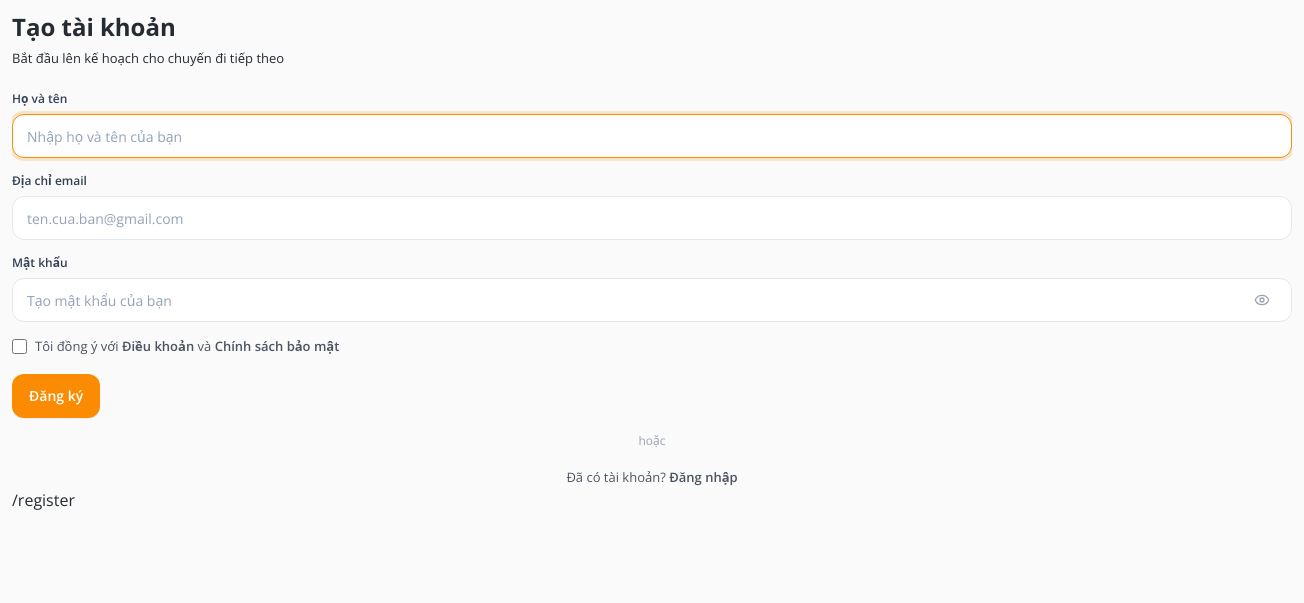
Test case: Màn Đăng ký › lỗi: email không phải @gmail.com → chặn ngay ở form, không gọi API
Step 1. Type "Nguyễn Văn A" into the field labelled "Họ và tên" → [652, 136], box x1=12 y1=114 x2=1292 y2=158
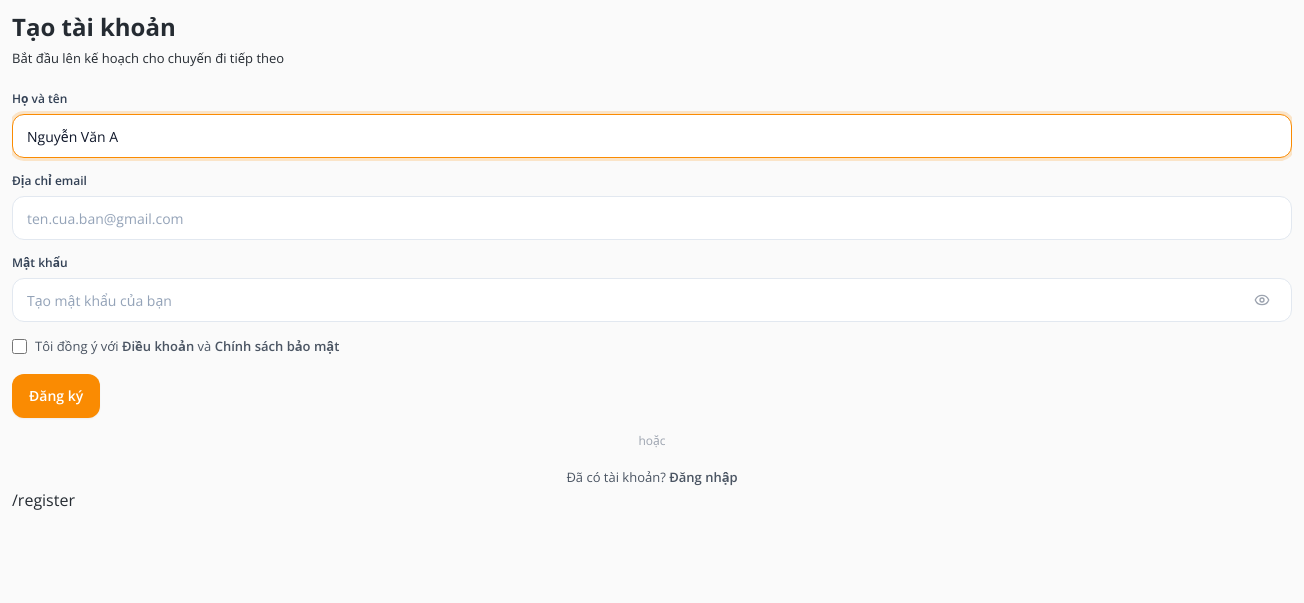
Step 2. Type "abc@yahoo.com" into the field labelled "Địa chỉ email" → [652, 218], box x1=12 y1=196 x2=1292 y2=240
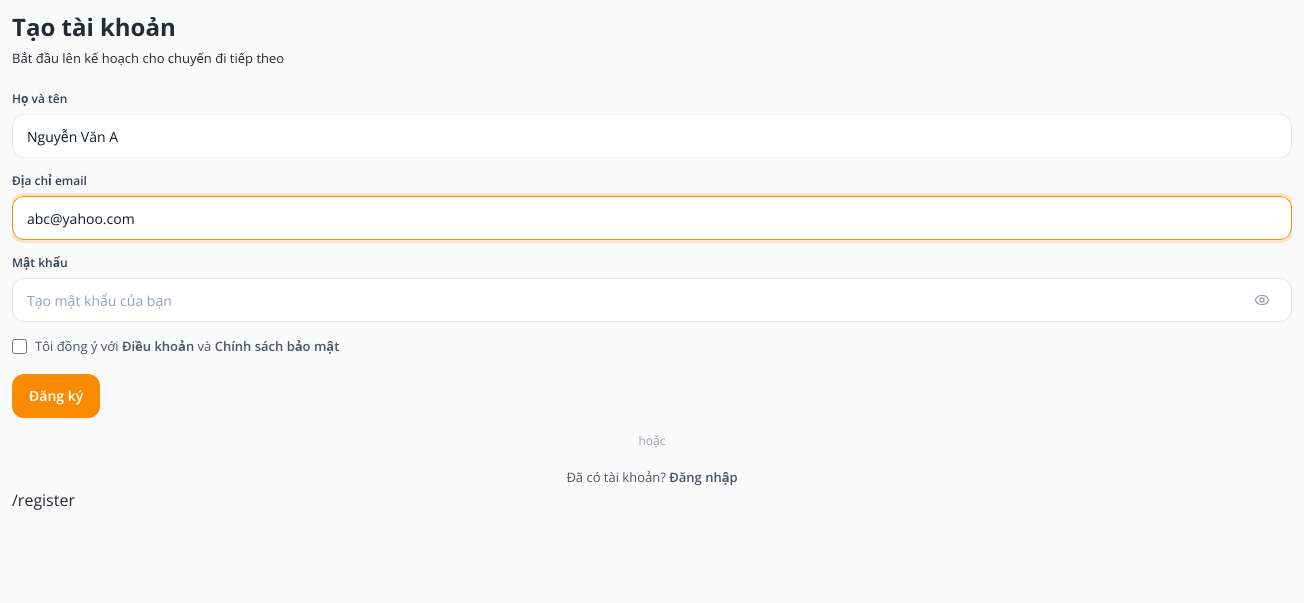
Step 3. Type "MatKhau1" into the password field labelled "Mật khẩu" → [652, 300], box x1=12 y1=278 x2=1292 y2=322
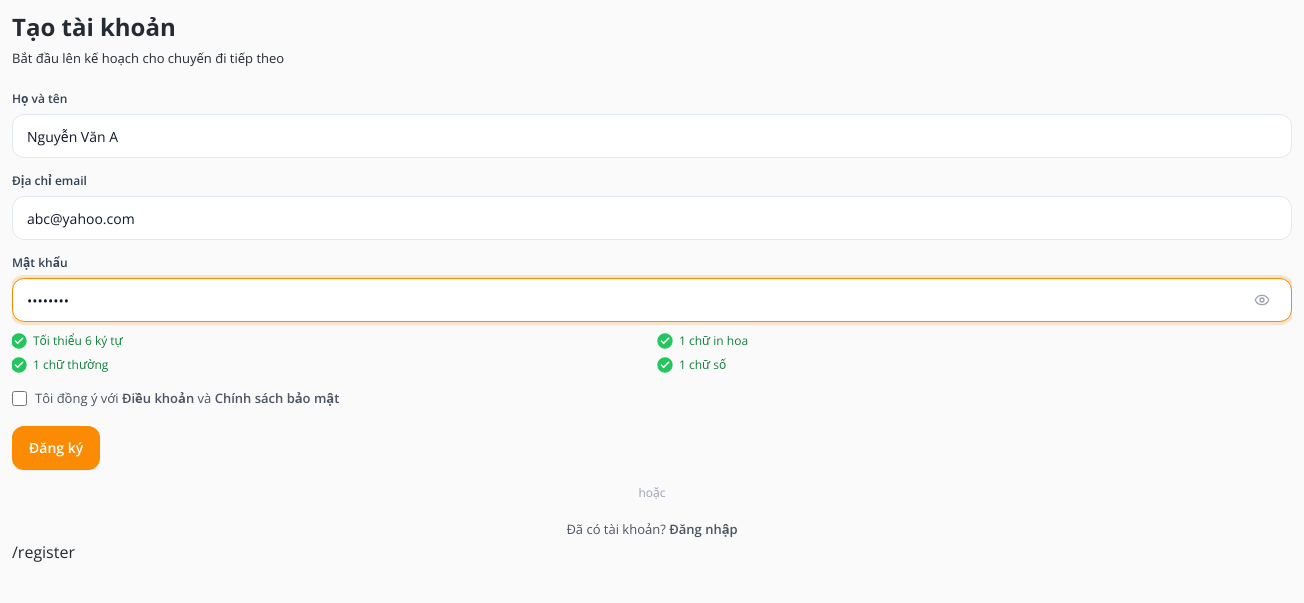
Step 4. Click the checkbox → [20, 399], box x1=12 y1=391 x2=27 y2=406
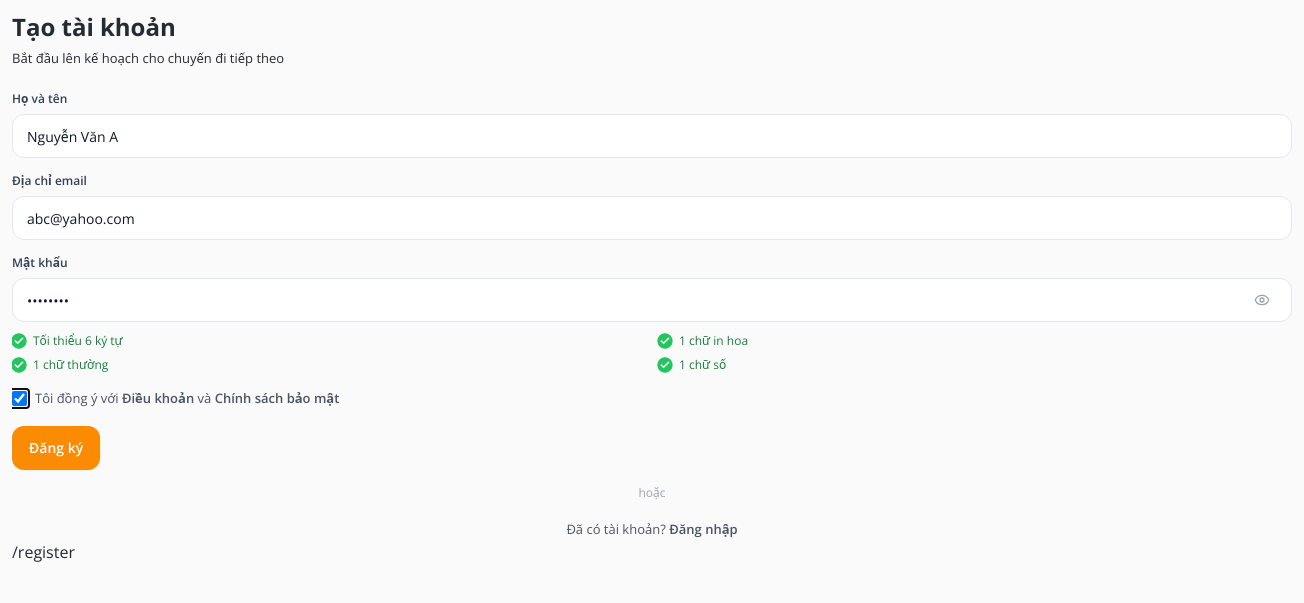
Step 5. Click the button "Đăng ký" → [56, 448], box x1=12 y1=426 x2=100 y2=470
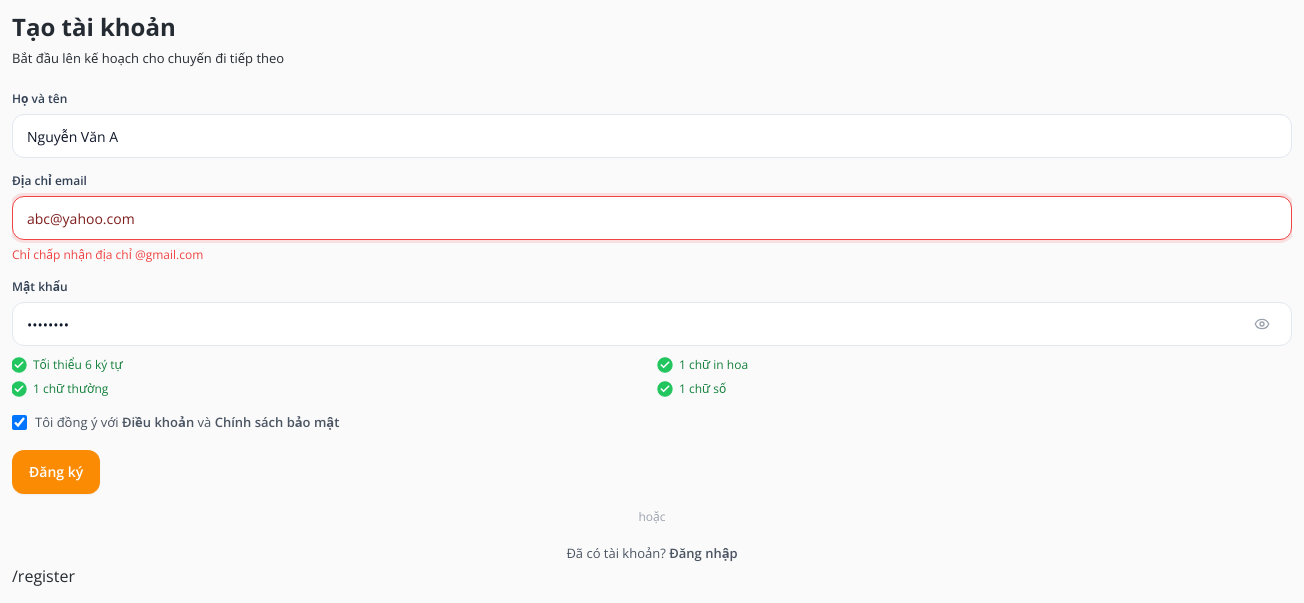
Result: the text "Chỉ chấp nhận địa chỉ @gmail.com" is shown at x1=12 y1=246 x2=203 y2=263
